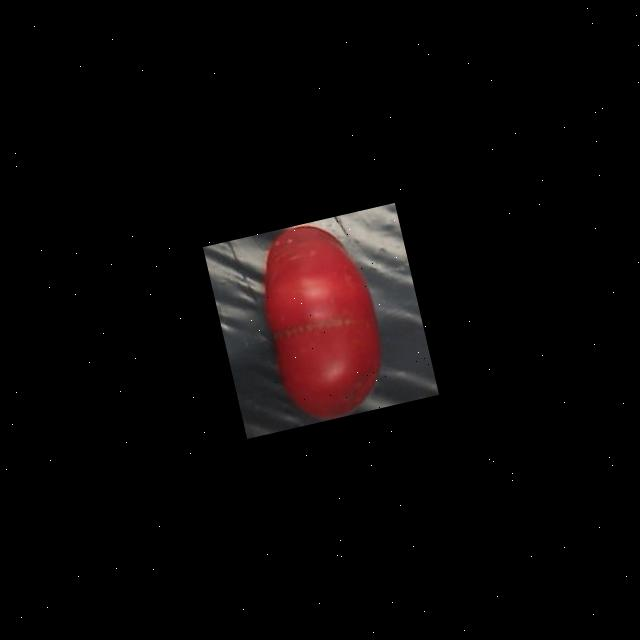tomato: (242, 211, 398, 429)
